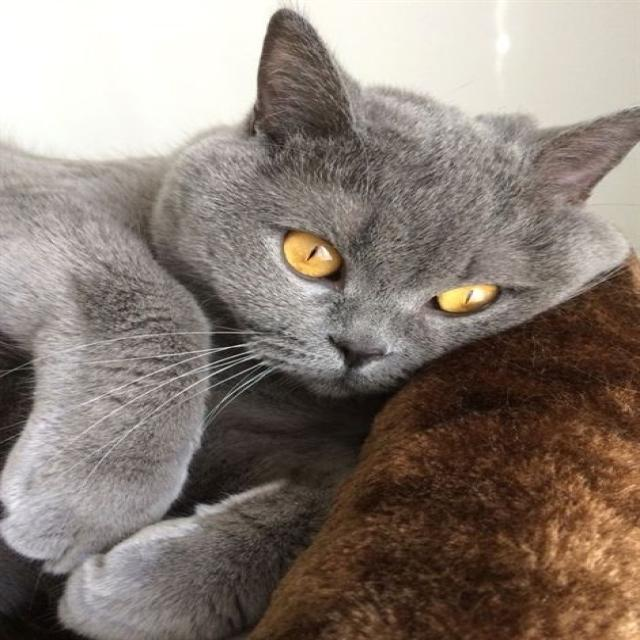british shorthair: (42, 14, 640, 640)
